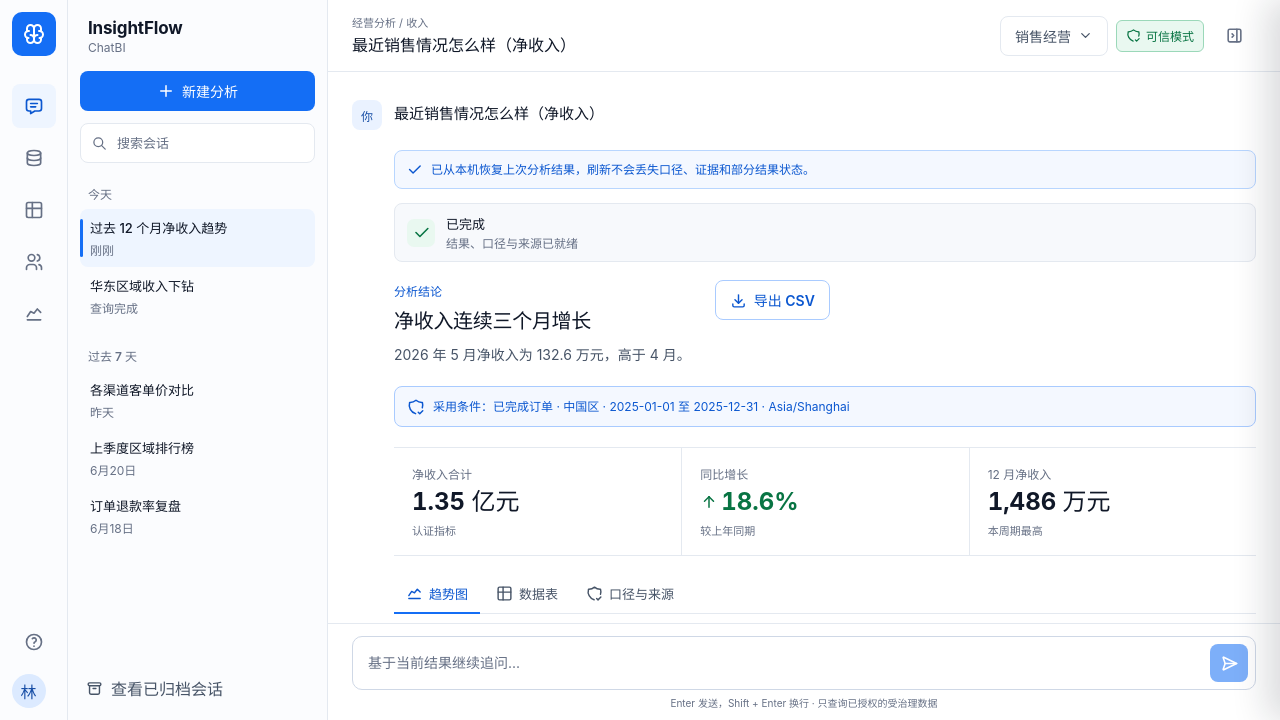
Test: Workbench UI › shows a safe permission failure without leaking forbidden resource names
Type "列出其他事业部的客户手机号和订单" into the text box named "输入分析问题" at (784, 663), box [366, 650, 1202, 676]
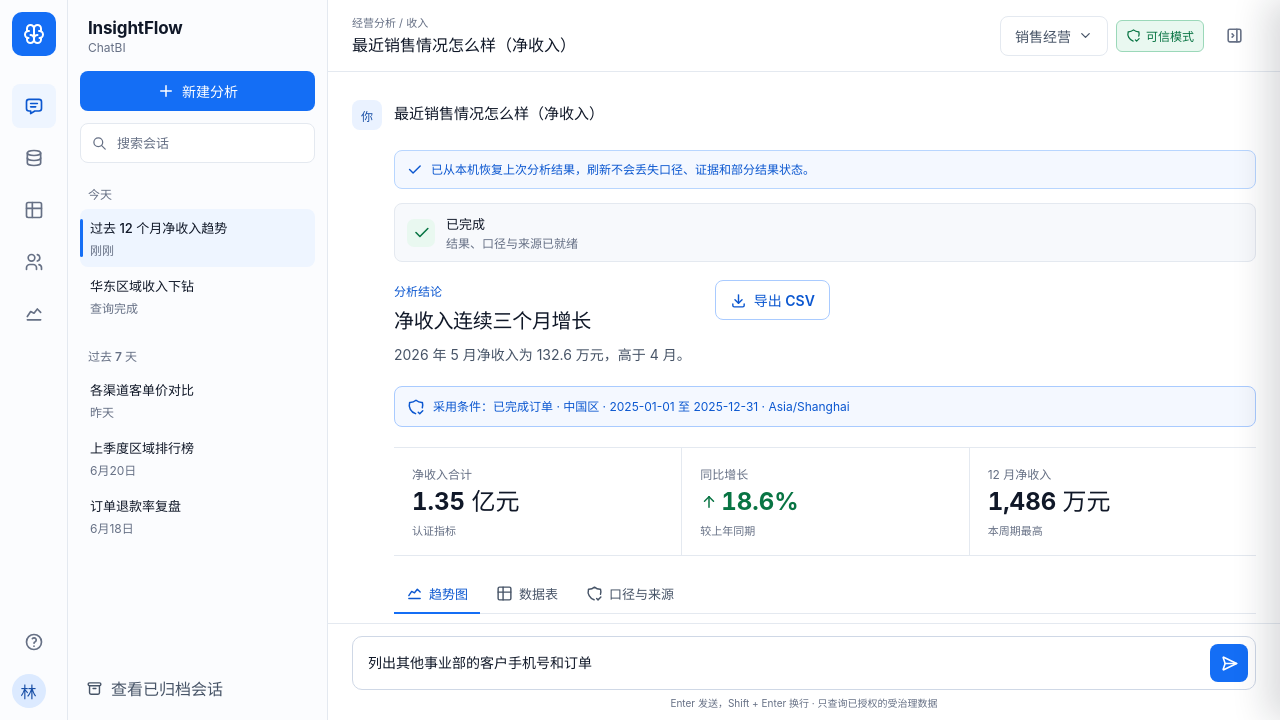
Click the button named "开始分析" at (1229, 663), box [1210, 644, 1248, 682]
Wait 500 ms
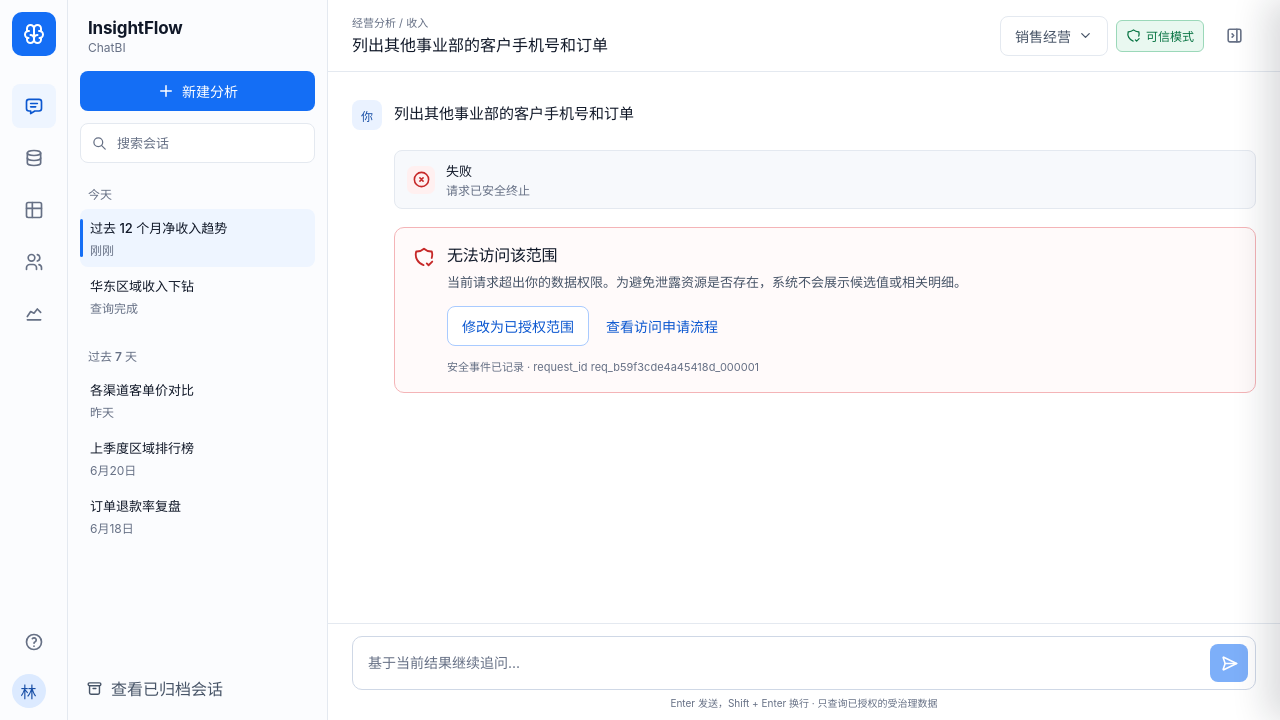
Now the text "无法访问该范围" is shown, box [447, 245, 557, 265]
Now the text "当前请求超出你的数据权限。为避免泄露资源是否存在，系统不会展示候选值或相关明细。" is shown, box [447, 272, 967, 293]
Now the text "安全事件已记录 · request_id req_b59f3cde4a45418d_000001" is shown, box [447, 360, 759, 374]
